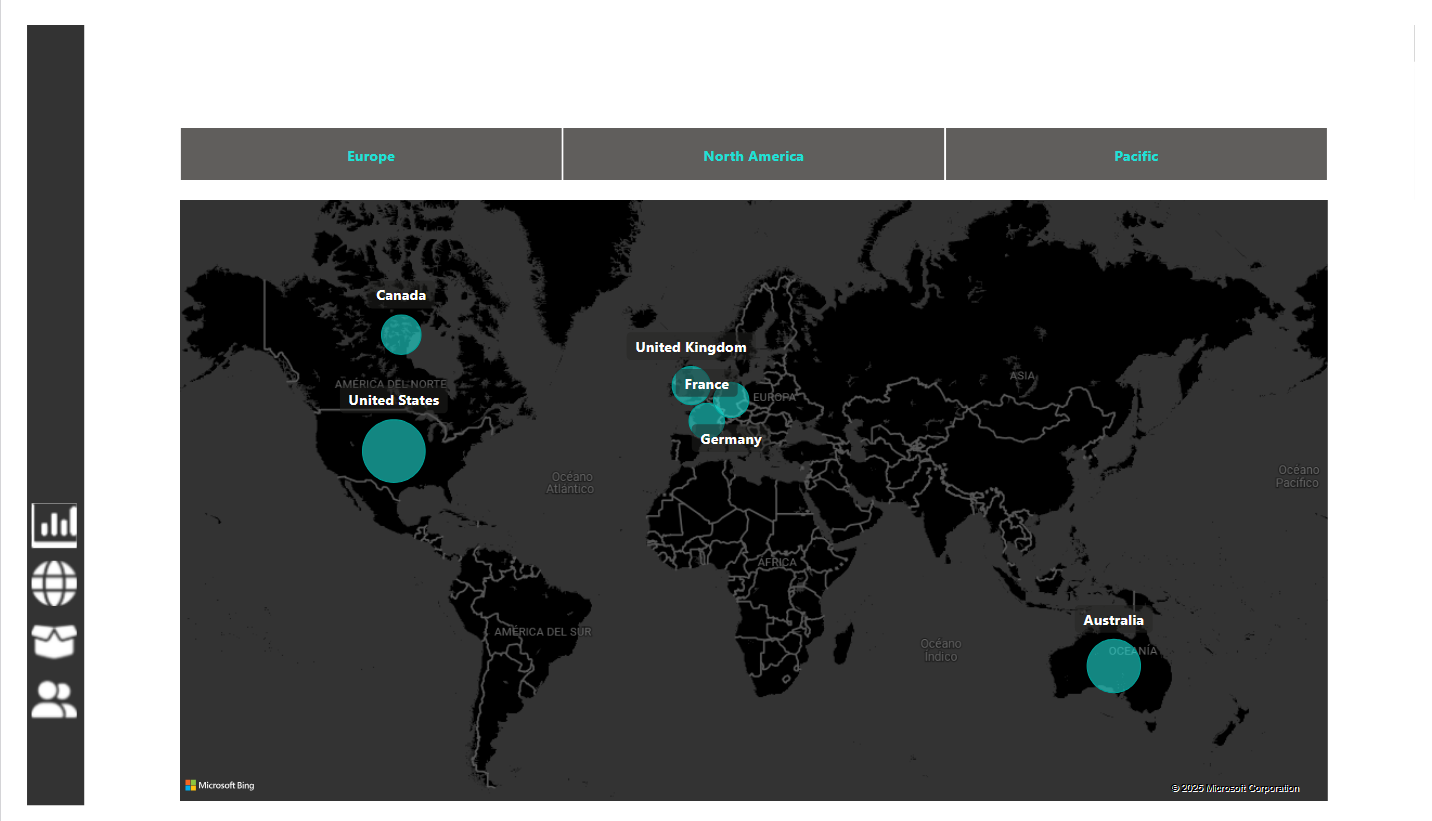

The dashboard page shown, as its layout file describes it:
{"tool":"powerbi","page":{"name":"Map","canvas":[1280,720],"ordinal":1},"visuals":[{"type":"shape","box":[0,0,52.6,719.6],"z":0},{"type":"actionButton","box":[0,437.4,97,49.8],"z":0,"group":"g1"},{"type":"map","fields":{"Category":["Territory Lookup.Country"],"Size":["Measure Table.Total Orders"]},"box":[135.6,155.8,1069.1,565.6],"z":1000},{"type":"actionButton","box":[0,544.4,97,49.8],"z":1000,"group":"g1"},{"type":"slicer","fields":{"Values":["Territory Lookup.Continent"]},"box":[119.7,92.3,1099.4,53.4],"z":2000},{"type":"actionButton","box":[0,490.9,97,49.8],"z":2000,"group":"g1"},{"type":"group","id":"g1","title":"Navegation Buttons","box":[0,437.4,97,210.2],"z":3000},{"type":"actionButton","box":[0,597.9,97,49.8],"z":3000,"group":"g1"}]}

Visuals, with their boxes in screenshot pixels (x1, y1, x2, y2):
shape: 22, 30, 78, 796
actionButton: 22, 495, 126, 548
map - Territory Lookup.Country x Measure Table.Total Orders: 167, 196, 1304, 798
actionButton: 22, 609, 126, 662
slicer - Territory Lookup.Continent: 150, 128, 1320, 185
actionButton: 22, 552, 126, 605
"Navegation Buttons" group: 22, 495, 126, 719
actionButton: 22, 666, 126, 719
